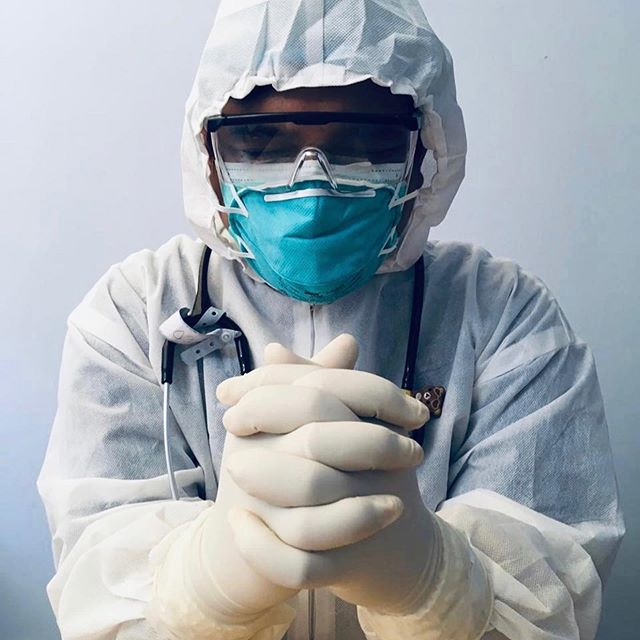n95: (207, 164, 407, 308)
